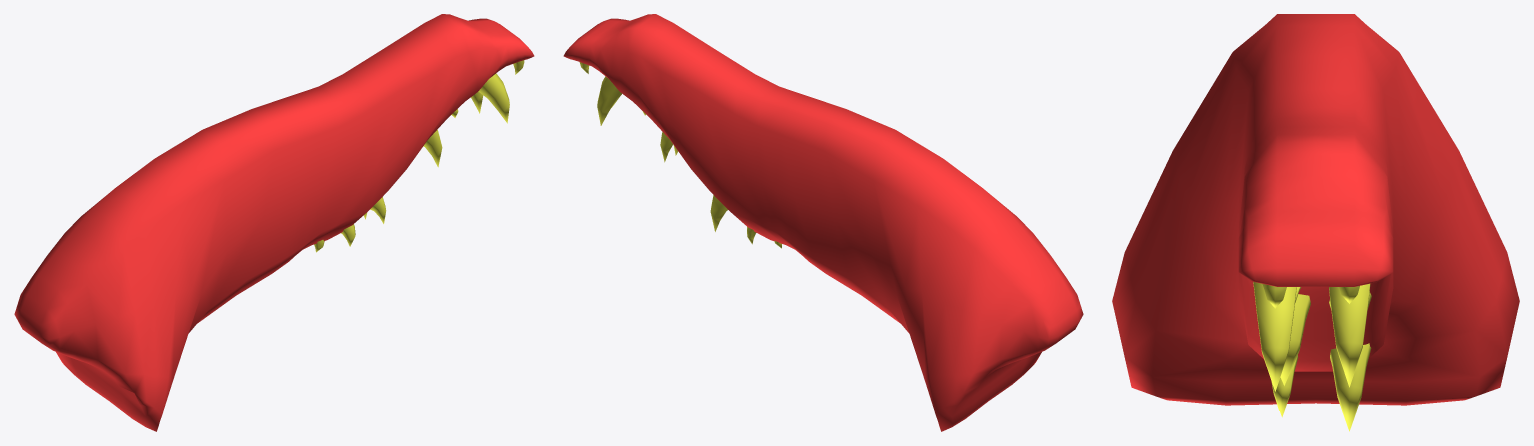
Rendered from Skull.FBX.
The picture shows the model from 3 angles, left to right: view 1: azimuth 30°, elevation 25°; view 2: azimuth 150°, elevation 25°; view 3: azimuth 270°, elevation 25°; orthographic projection. The views are drawn at different scales.
Parts seen in each view (by area): view 1: Skull, Teeth; view 2: Skull, Teeth; view 3: Skull, Teeth.
Part boxes in pixels (x1=…): Skull: x1=14, y1=14, x2=534, y2=431; Teeth: x1=314, y1=60, x2=524, y2=252; Skull: x1=563, y1=14, x2=1083, y2=431; Teeth: x1=579, y1=62, x2=781, y2=248; Skull: x1=1112, y1=14, x2=1519, y2=405; Teeth: x1=1253, y1=282, x2=1371, y2=431.
Bounding box in the file's own units: 7.2 × 4.19 × 2.65.
